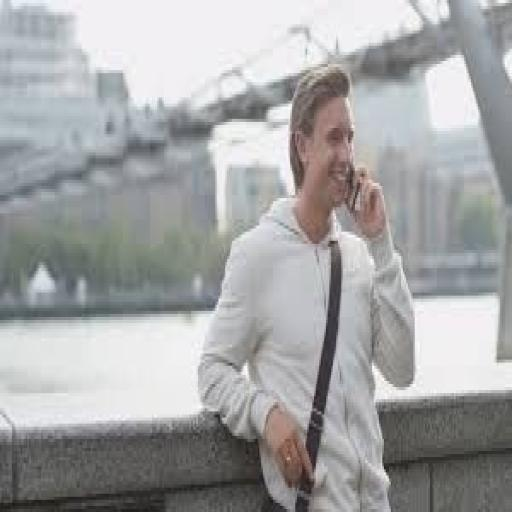calling: (195, 58, 418, 509)
